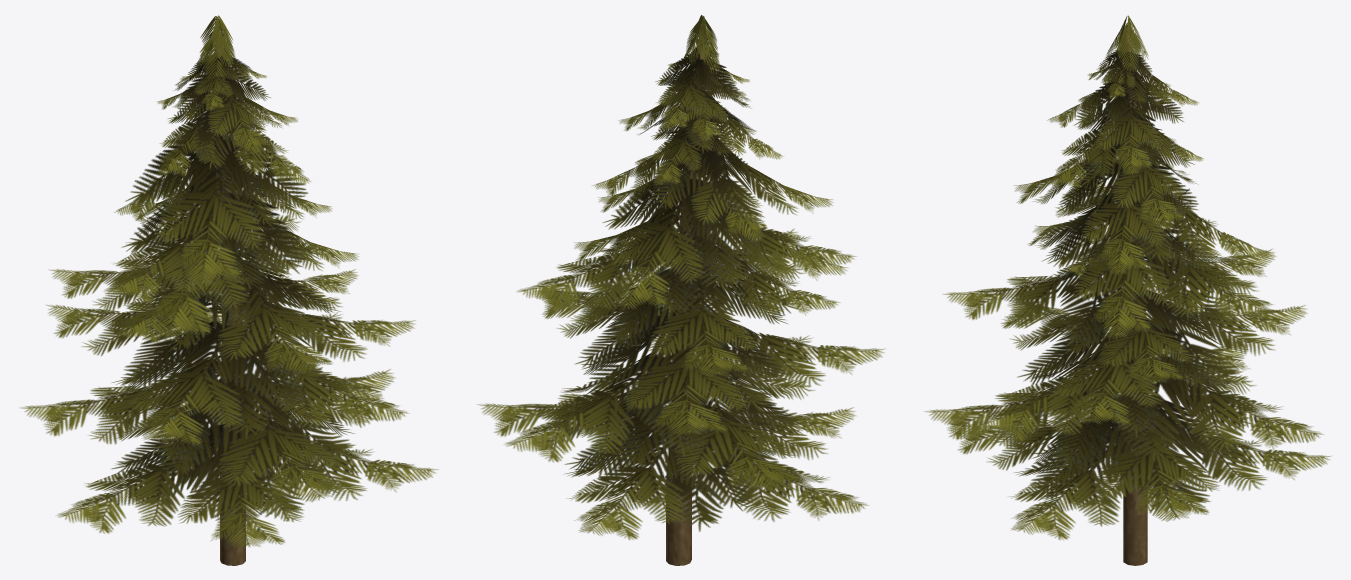
File: pine.glb
3 views of the same model, side by side, from view 1: azimuth 30°, elevation 25°; view 2: azimuth 150°, elevation 25°; view 3: azimuth 270°, elevation 25° (orthographic). The views are drawn at different scales.
Parts seen in each view (by area): view 1: Leaves/001, Trank.001; view 2: Leaves/001, Trank.001; view 3: Leaves/001, Trank.001.
Boxes of the visible parts, x1,y1,x2,y2 form: Leaves/001: [19, 15, 438, 548]; Trank.001: [214, 29, 245, 565]; Leaves/001: [477, 15, 884, 539]; Trank.001: [666, 28, 705, 565]; Leaves/001: [924, 15, 1331, 540]; Trank.001: [1121, 28, 1147, 565].
Size of the model in its own units: 217 by 308 by 217.
Materials: 2 (2 with a texture image).
